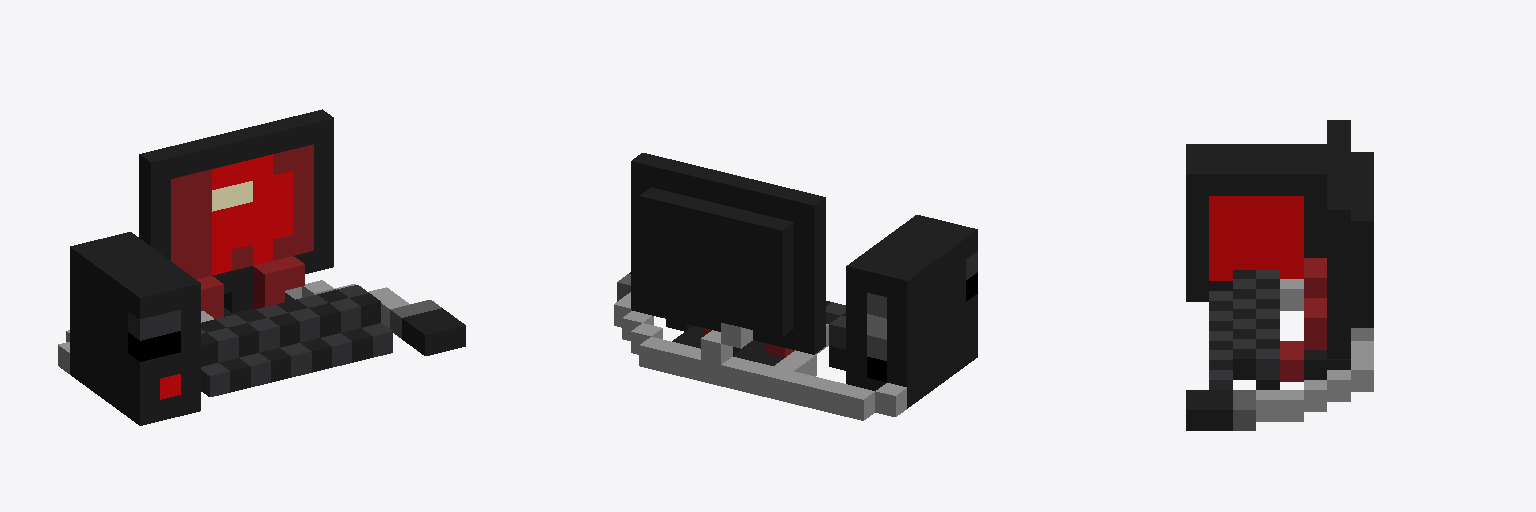
3 renders of one model, left to right at view 1: azimuth 30°, elevation 25°; view 2: azimuth 150°, elevation 25°; view 3: azimuth 270°, elevation 25°, orthographic.
Parts seen in each view (by area): view 1: object 1; view 2: object 1; view 3: object 1.
Boxes of the visible parts, x1=… form: object 1: x1=58, y1=109, x2=465, y2=425; object 1: x1=614, y1=153, x2=977, y2=420; object 1: x1=1186, y1=120, x2=1373, y2=430.
Size of the model in its own units: 1.6 by 0.9 by 0.8.
1 materials, 1 textured.